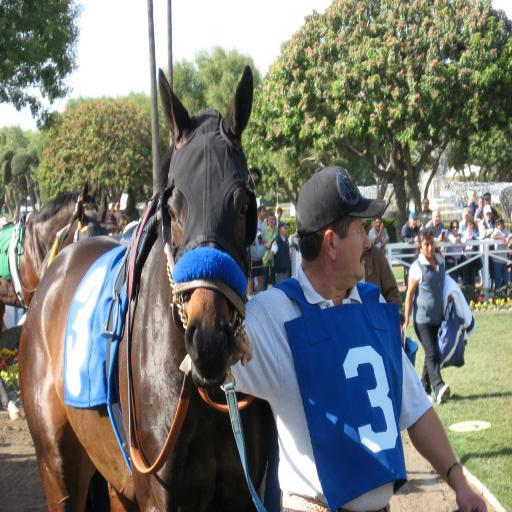Horse: (16, 68, 280, 512), (0, 181, 111, 347)
